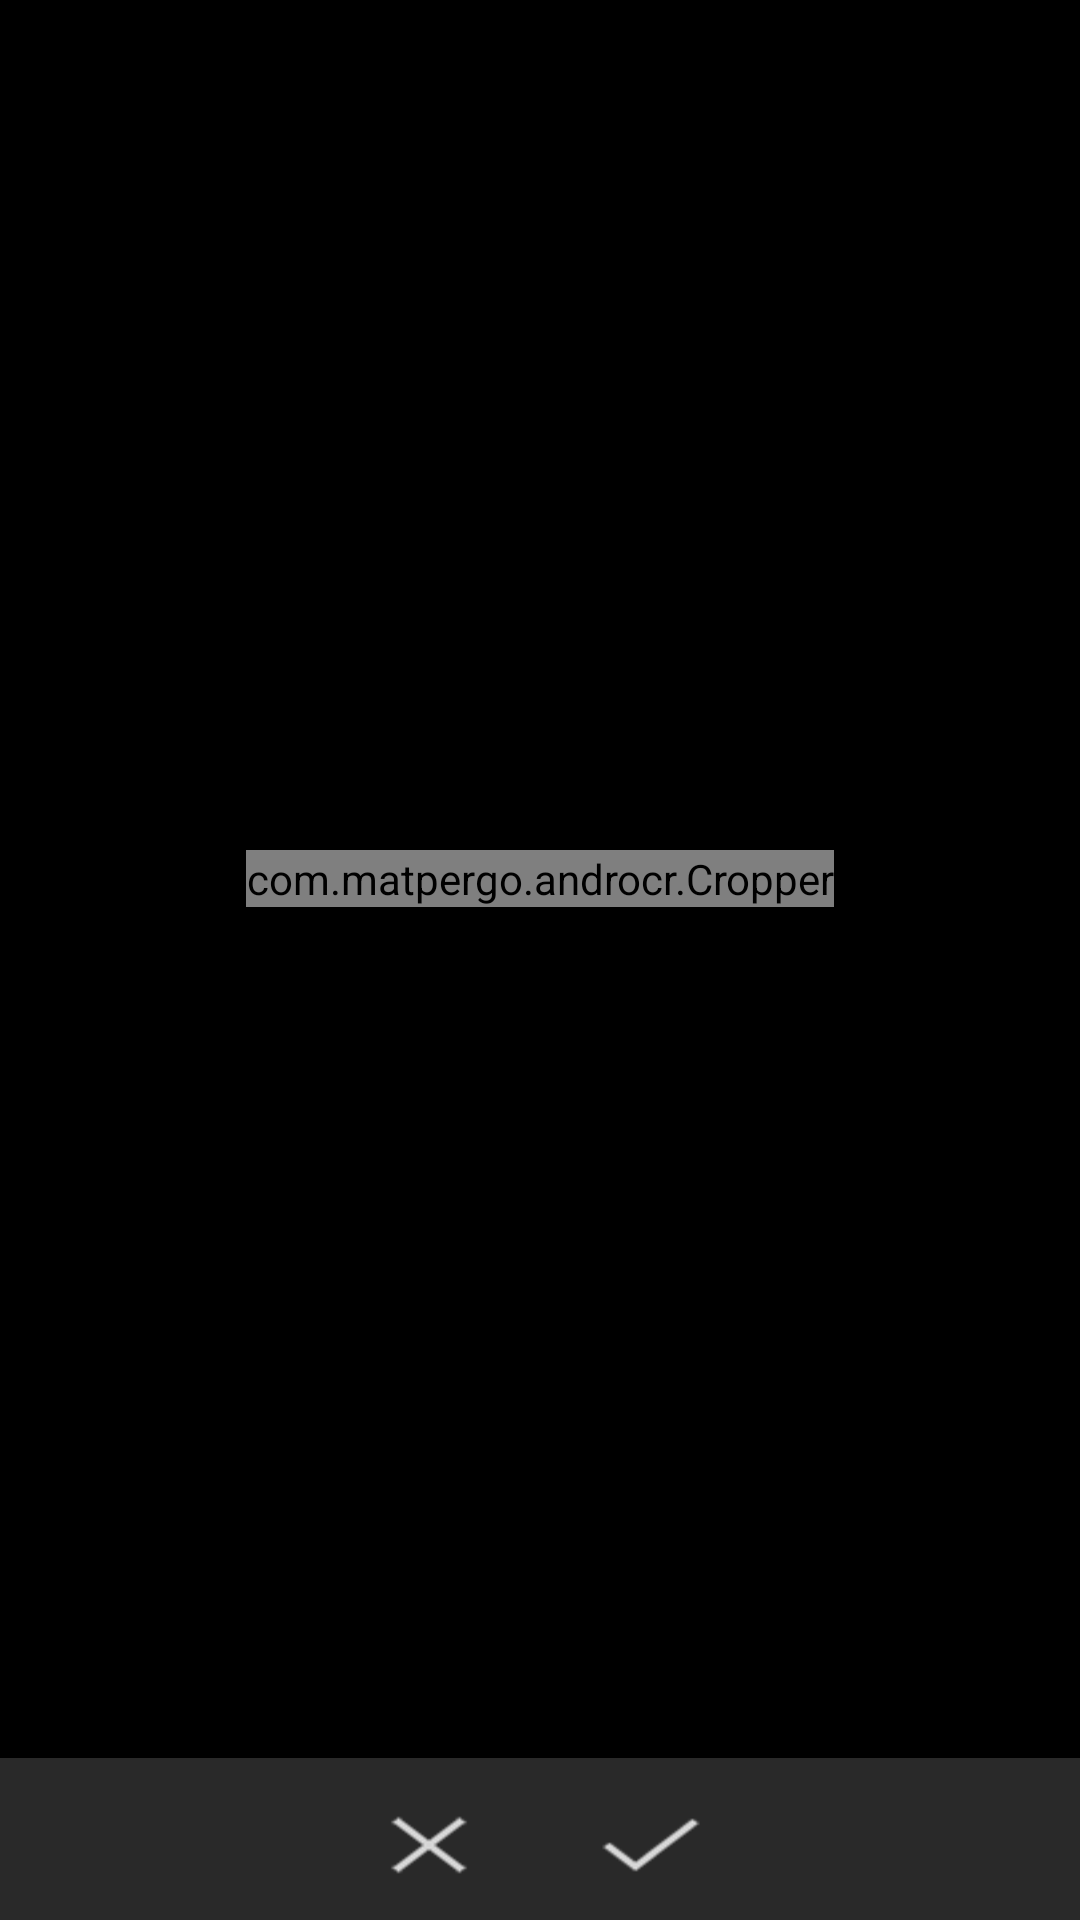

Named icons in this screenshot (1080w x 1920h) and their centers, (x=x, y=y):
Cancel: (x=429, y=1845)
OK: (x=651, y=1845)
